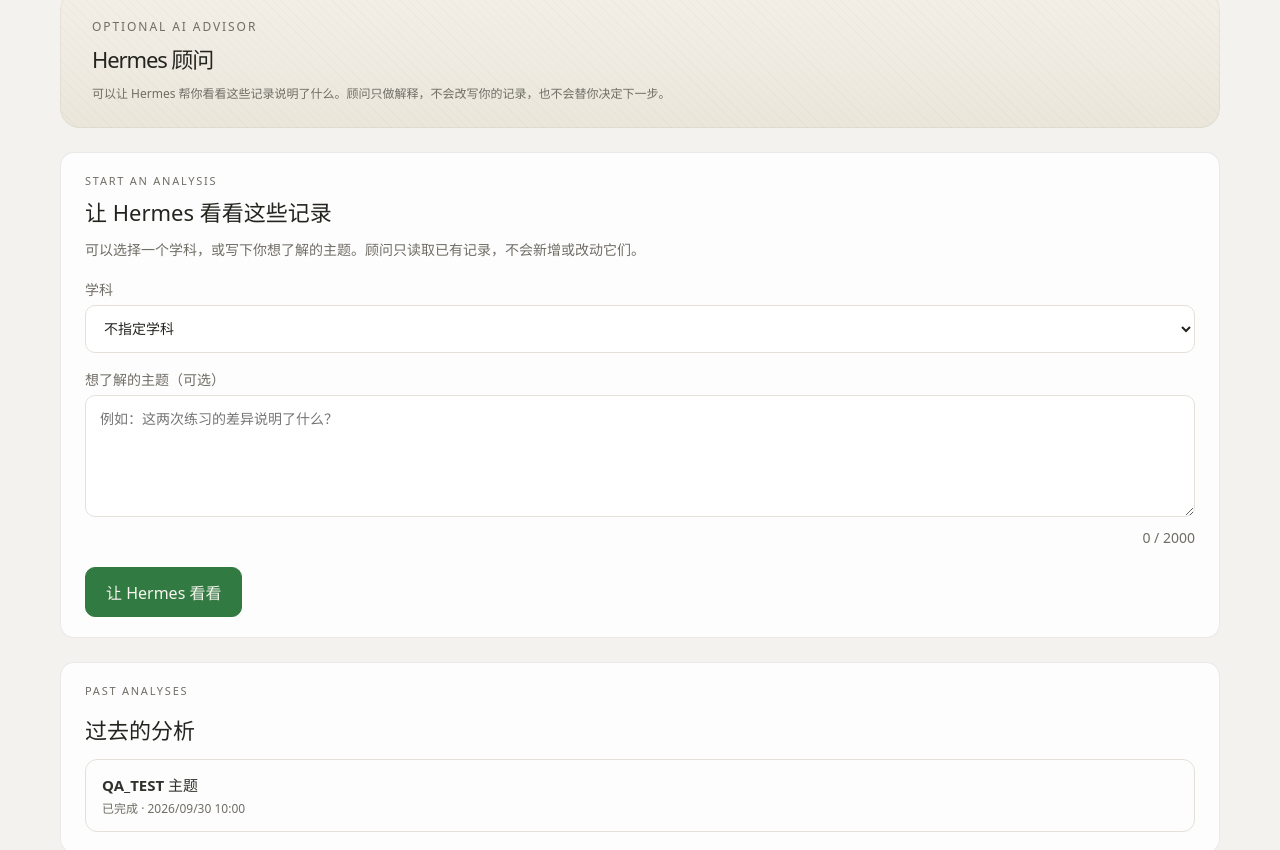
Test: optional AI advisor › renders facts, possible interpretations and missing information as three distinct labelled sections
Click the button with aria-label "打开分析：QA_TEST 主题": (150, 785) [85, 758, 1195, 832]
(page scrolled)
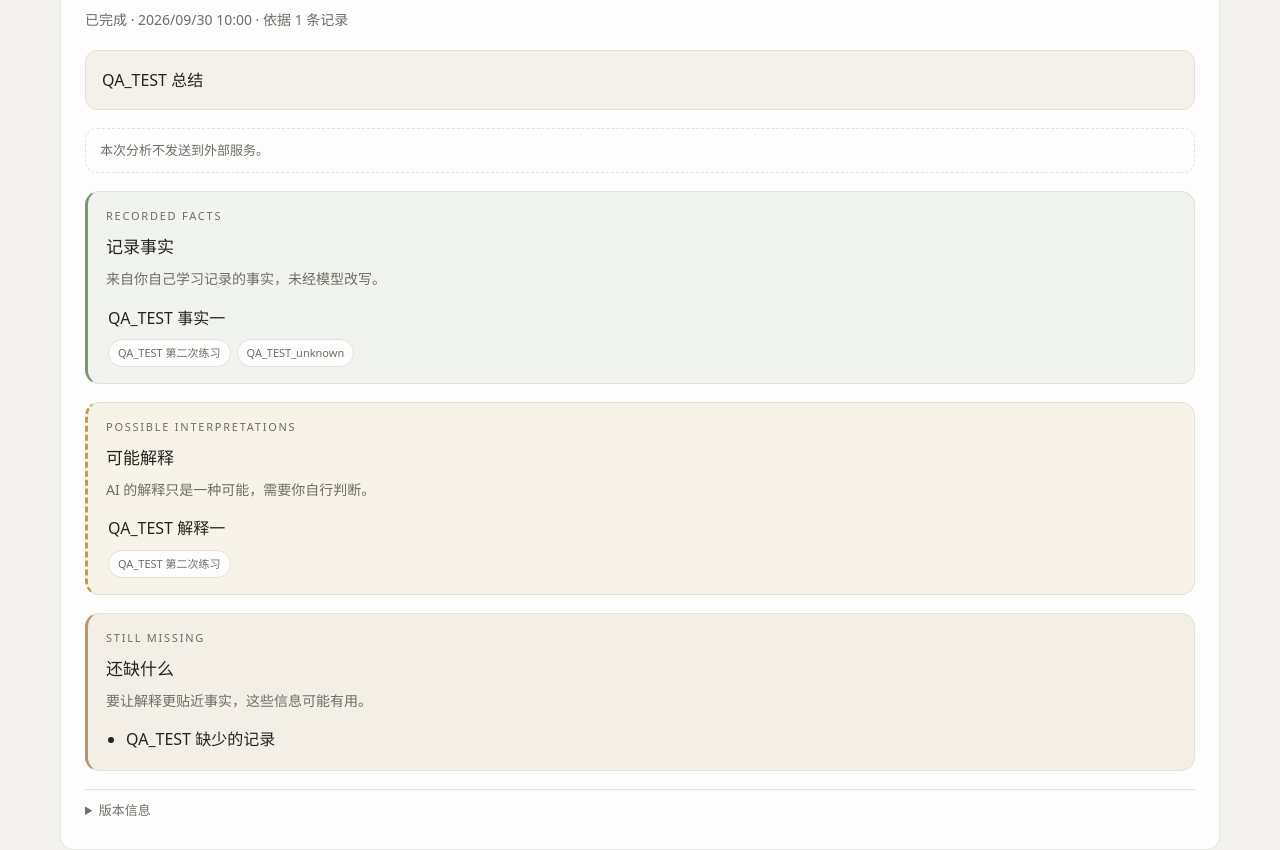
Result: the text "RECORDED FACTS" is shown at [106, 208, 222, 224]
Result: the text "POSSIBLE INTERPRETATIONS" is shown at [106, 419, 296, 434]
Result: the text "STILL MISSING" is shown at [106, 630, 205, 645]
